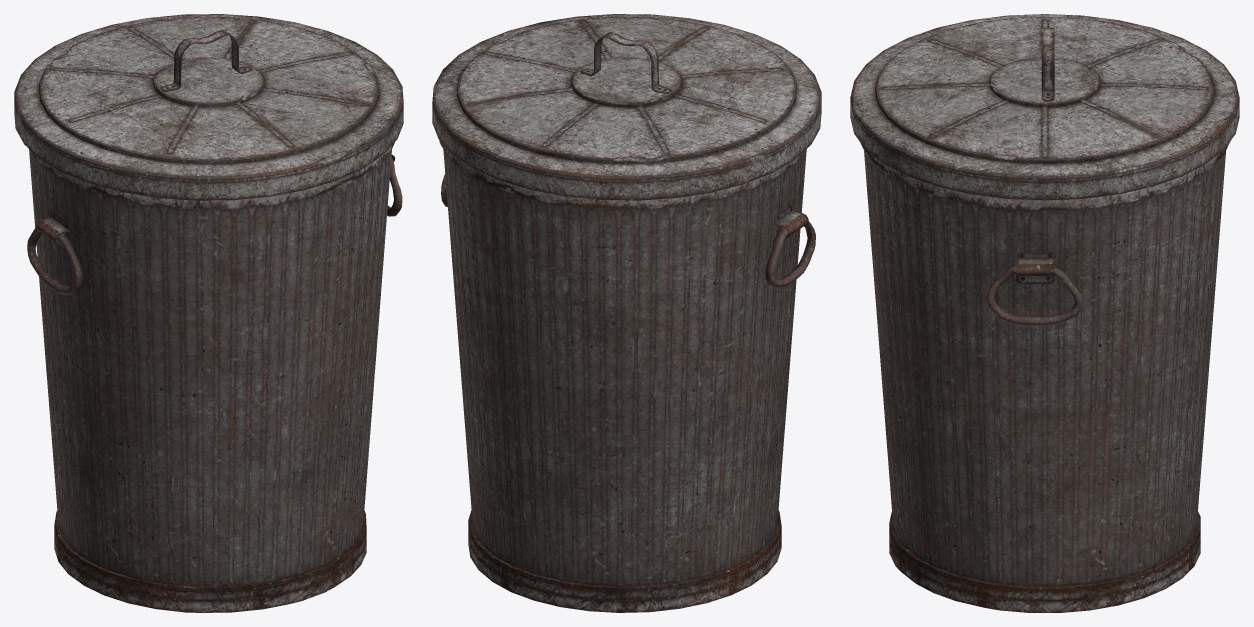
File: trashcan2.glb
3 renders of one model, left to right at view 1: azimuth 30°, elevation 25°; view 2: azimuth 150°, elevation 25°; view 3: azimuth 270°, elevation 25°, orthographic.
Parts seen in each view (by area): view 1: Object_8; view 2: Object_8; view 3: Object_8.
Boxes of the visible parts, bbox=[...] form: Object_8: bbox=[14, 14, 403, 612]; Object_8: bbox=[432, 14, 821, 612]; Object_8: bbox=[850, 14, 1239, 612].
Bounding box in the file's own units: 0.5257 × 0.7518 × 0.5209.
1 material, 1 textured.
